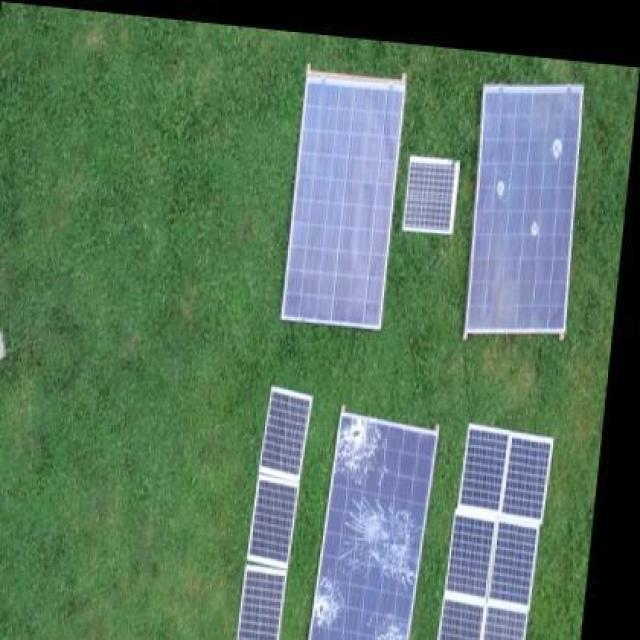cracked: (306, 412, 439, 638)
soiled: (466, 84, 582, 337)
